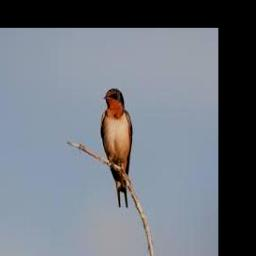Swallow: (101, 88, 132, 207)
